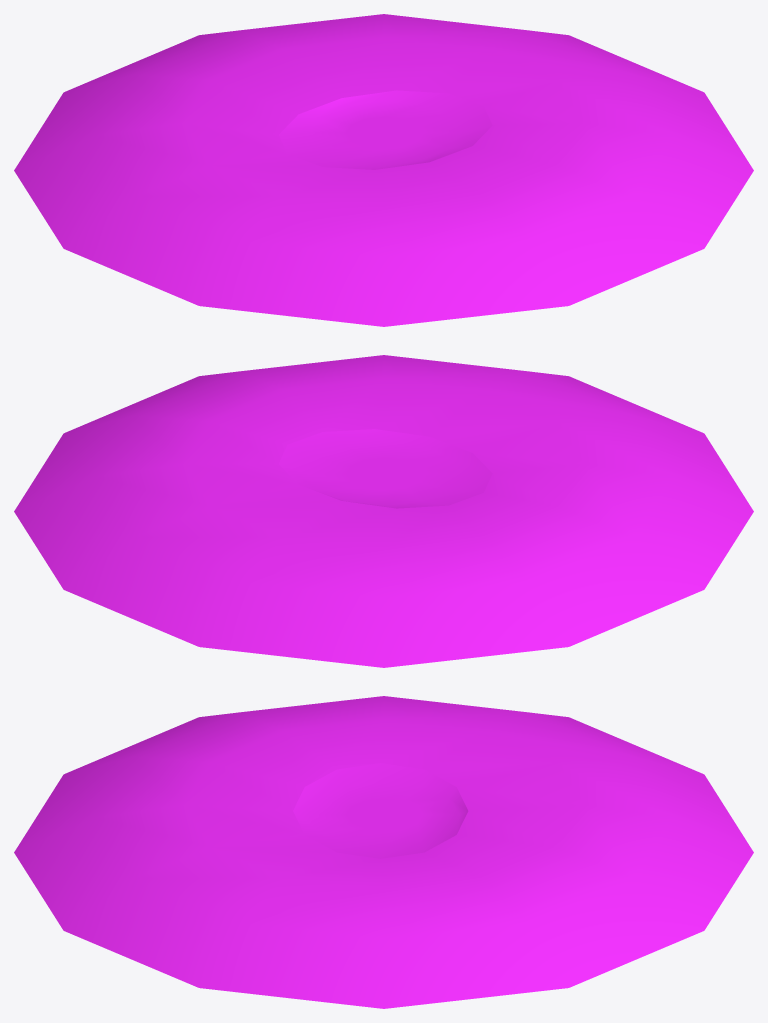
Rendered from ToTo.fbx.
The picture shows the model from 3 angles, top to bottom: view 1: azimuth 30°, elevation 25°; view 2: azimuth 150°, elevation 25°; view 3: azimuth 270°, elevation 25°; orthographic projection.
Parts seen in each view (by area): view 1: Cone001; view 2: Cone001; view 3: Cone001.
Boxes of the visible parts, bbox=[...] form: Cone001: bbox=[14, 14, 753, 326]; Cone001: bbox=[14, 355, 753, 667]; Cone001: bbox=[14, 696, 753, 1008].
Bounding box in the file's own units: 81.55 × 7.66 × 81.55.
